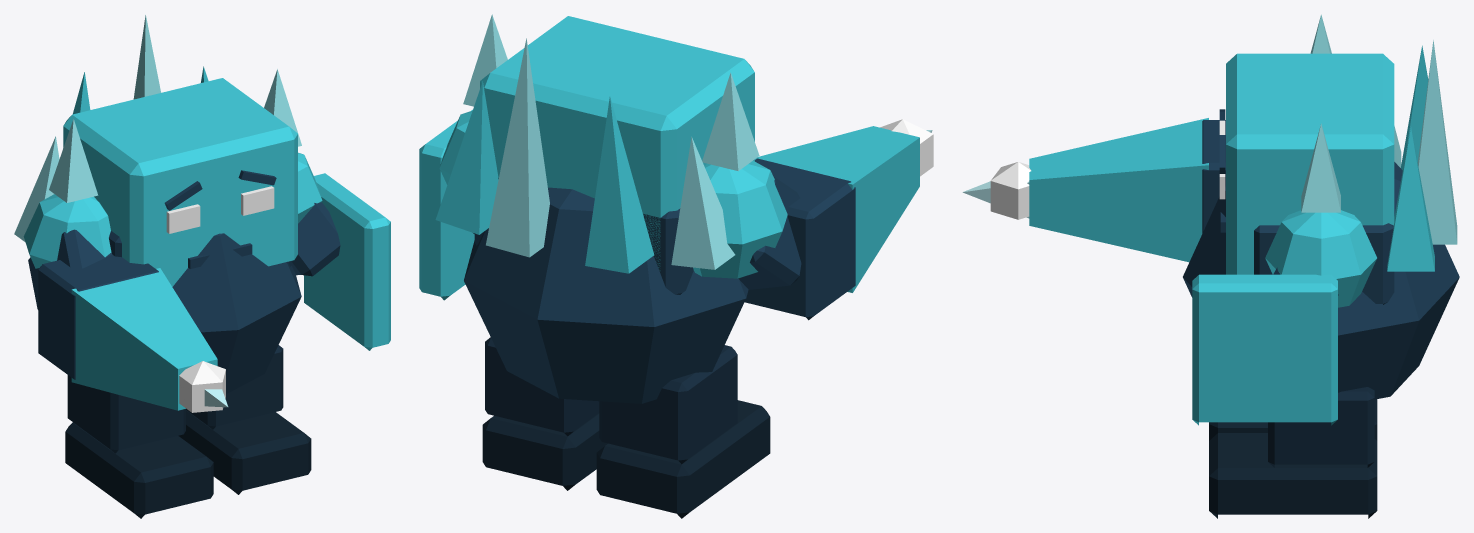
File: r12_mini_prism_gunner.glb
3 views of the same model, side by side, from view 1: azimuth 30°, elevation 25°; view 2: azimuth 150°, elevation 25°; view 3: azimuth 270°, elevation 25° (orthographic). The views are drawn at different scales.
Visible parts, largest first — view 1: r12_mini_prism_gunner_mesh; view 2: r12_mini_prism_gunner_mesh; view 3: r12_mini_prism_gunner_mesh.
Part boxes in pixels (x1=…): r12_mini_prism_gunner_mesh: x1=14, y1=15, x2=390, y2=518; r12_mini_prism_gunner_mesh: x1=419, y1=14, x2=933, y2=518; r12_mini_prism_gunner_mesh: x1=962, y1=14, x2=1459, y2=518.
Bounding box in the file's own units: 3.07 × 3.8 × 3.83.
Materials: 1 (1 with a texture image).
